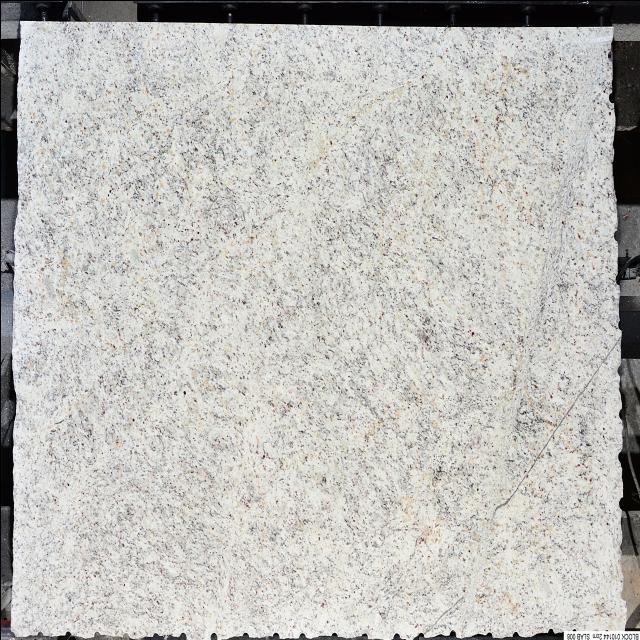chapa: (11, 22, 625, 636)
veio: (269, 629, 280, 640), (448, 628, 458, 640), (606, 91, 614, 105), (614, 270, 620, 288), (389, 631, 401, 639), (295, 631, 307, 639), (206, 632, 218, 640), (510, 629, 519, 638), (546, 626, 554, 636), (178, 630, 186, 640), (241, 632, 249, 638)
